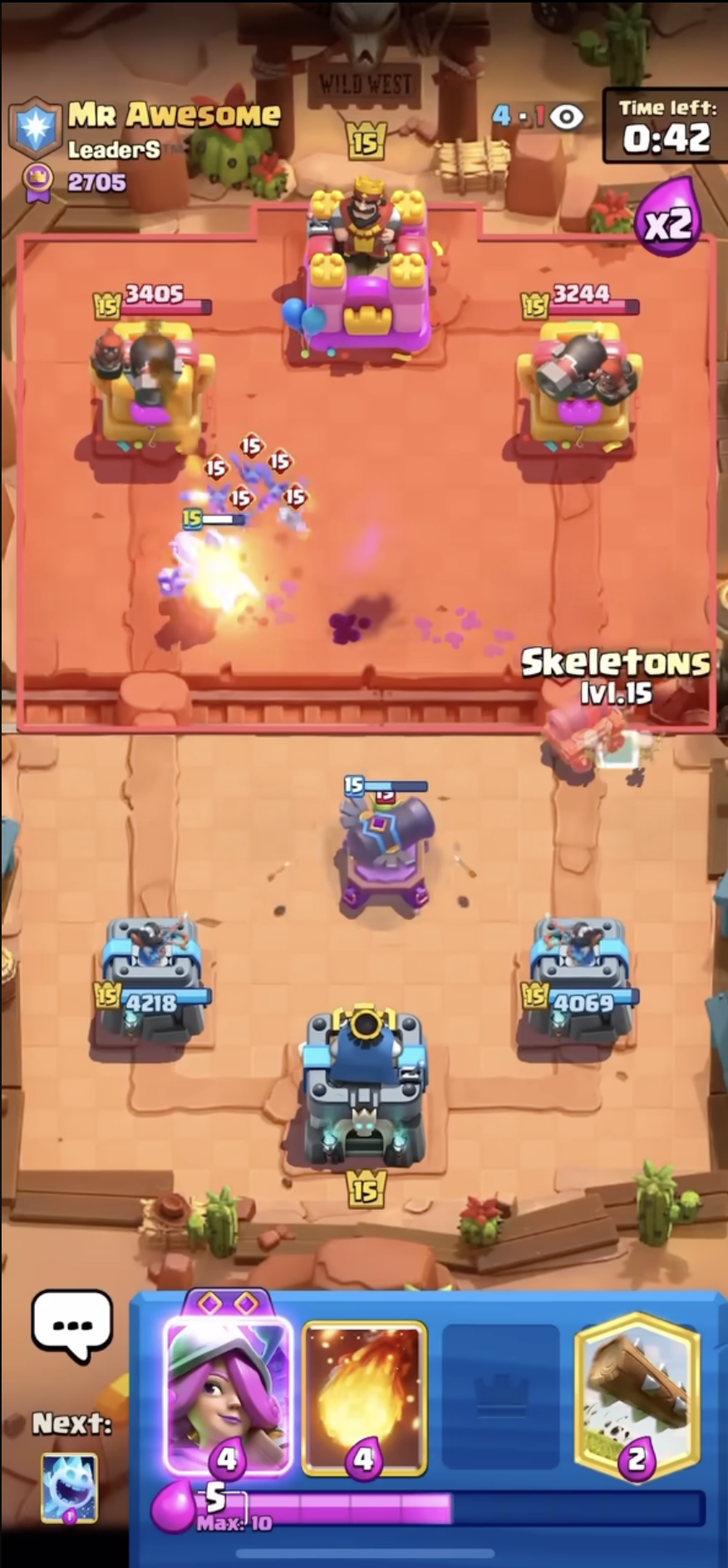evo_cannon: (330, 745, 452, 918)
